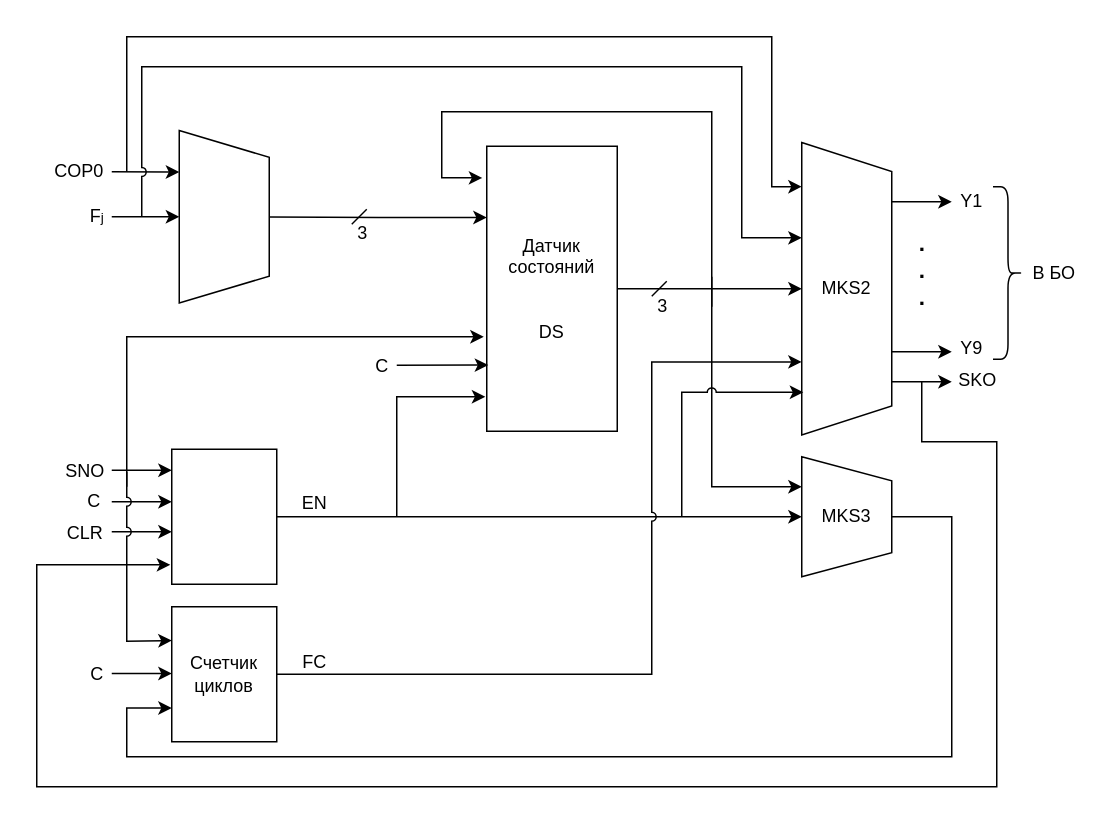
Image size: 1109x825. Some labels were removed from this diagram. Here are the shapes that lost their labels. From the top down, the centre of each, then its label:
the point at 223,216: MKS1
the point at 223,516: Схема пуска и останова
